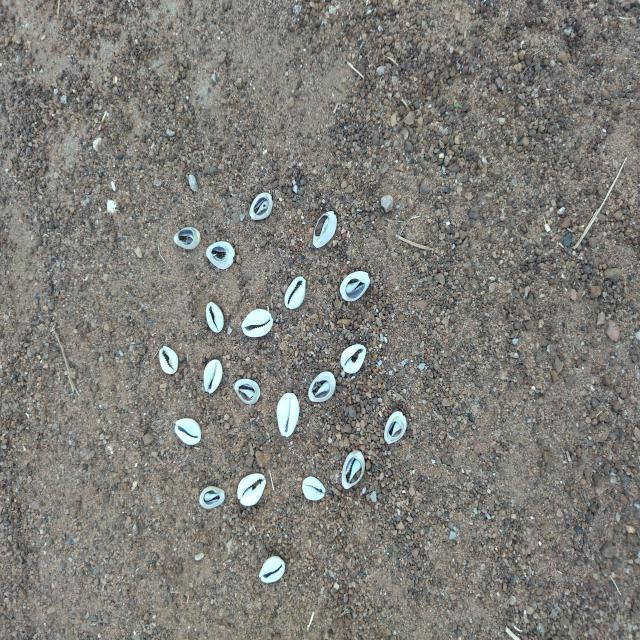facedown: (339, 446, 370, 491), (310, 209, 340, 252), (382, 406, 410, 452), (338, 269, 373, 305), (205, 238, 237, 275), (233, 373, 264, 411), (306, 369, 338, 405), (170, 223, 203, 254), (247, 189, 274, 224), (197, 485, 226, 512)
faceup: (275, 388, 302, 443), (238, 305, 276, 342), (237, 465, 268, 509), (239, 305, 275, 342), (274, 391, 302, 438), (172, 413, 205, 451), (202, 352, 227, 400), (200, 352, 225, 397), (257, 551, 287, 588), (282, 272, 308, 314), (257, 554, 286, 586), (341, 342, 368, 376), (301, 472, 328, 506), (300, 472, 328, 504), (157, 341, 180, 379), (204, 299, 227, 334)
